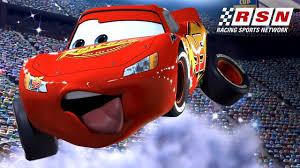mcqueen: (14, 4, 251, 163)
